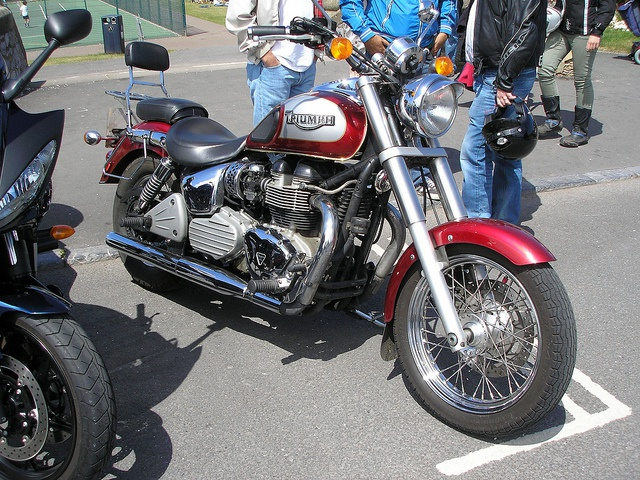non-vehicle: (82, 0, 578, 438), (0, 8, 117, 479)
